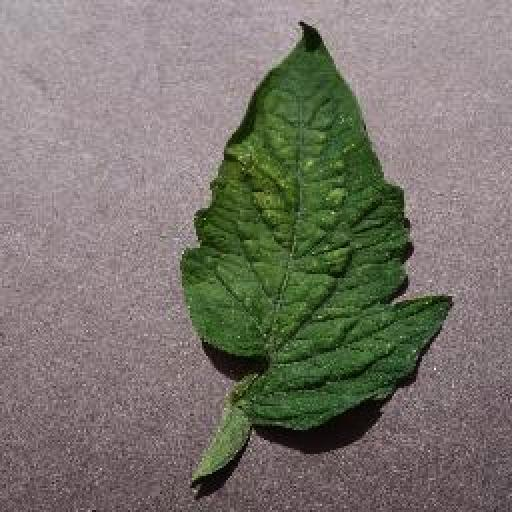disease_tomato: (180, 18, 456, 432)
